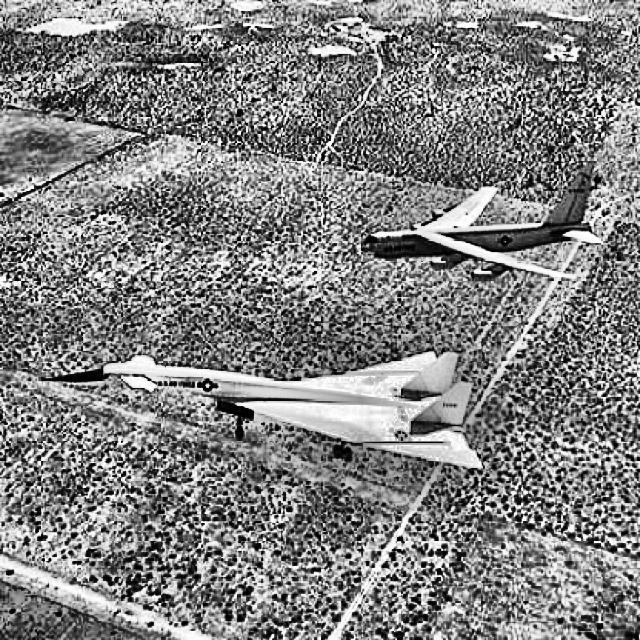B52: (352, 159, 603, 281)
XB70: (42, 348, 483, 470)
